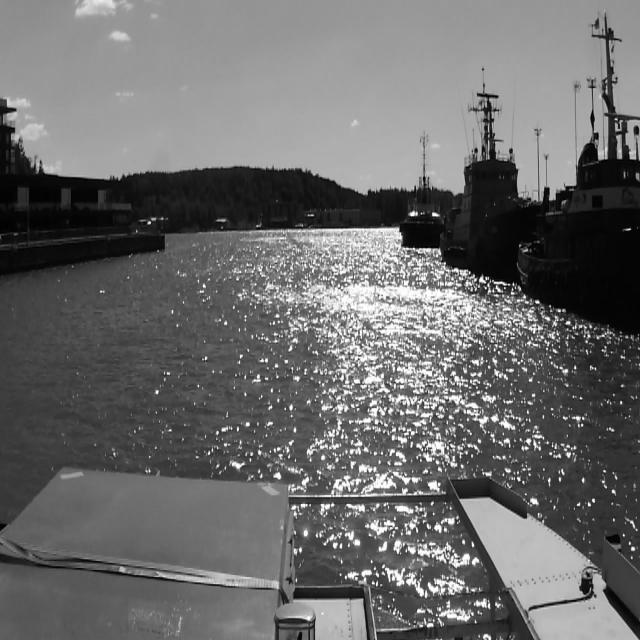ship: (522, 6, 640, 310), (441, 64, 521, 277), (400, 132, 440, 246)
